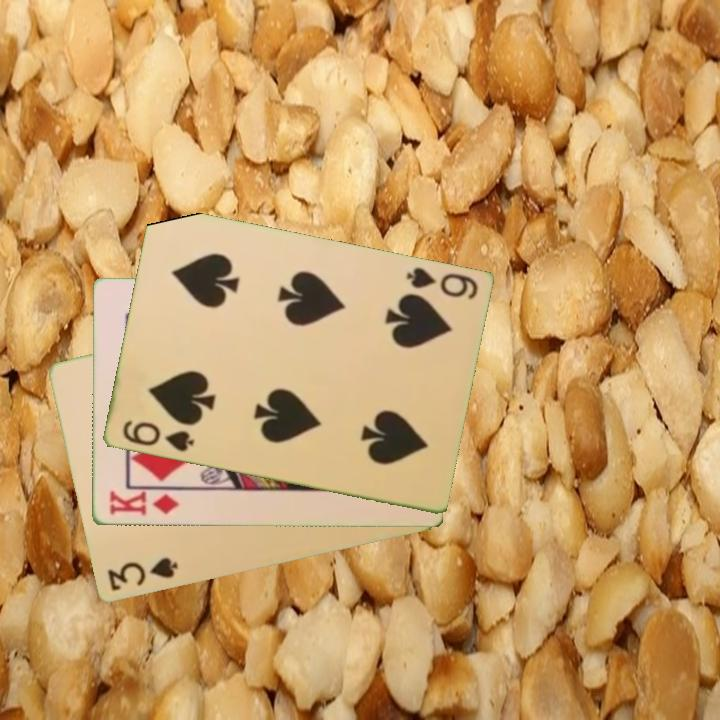3s: (103, 554, 181, 595)
6s: (118, 417, 197, 455), (402, 264, 480, 302)
Kd: (105, 487, 181, 519)
